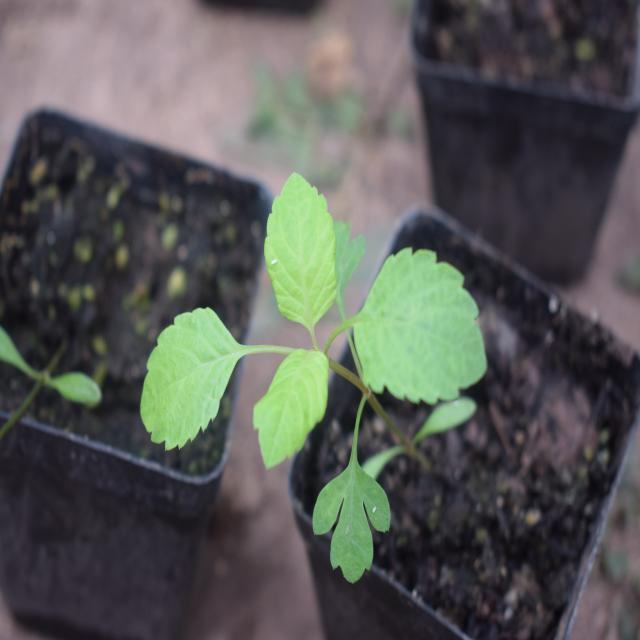Bidens pilosa: (120, 182, 499, 572)
